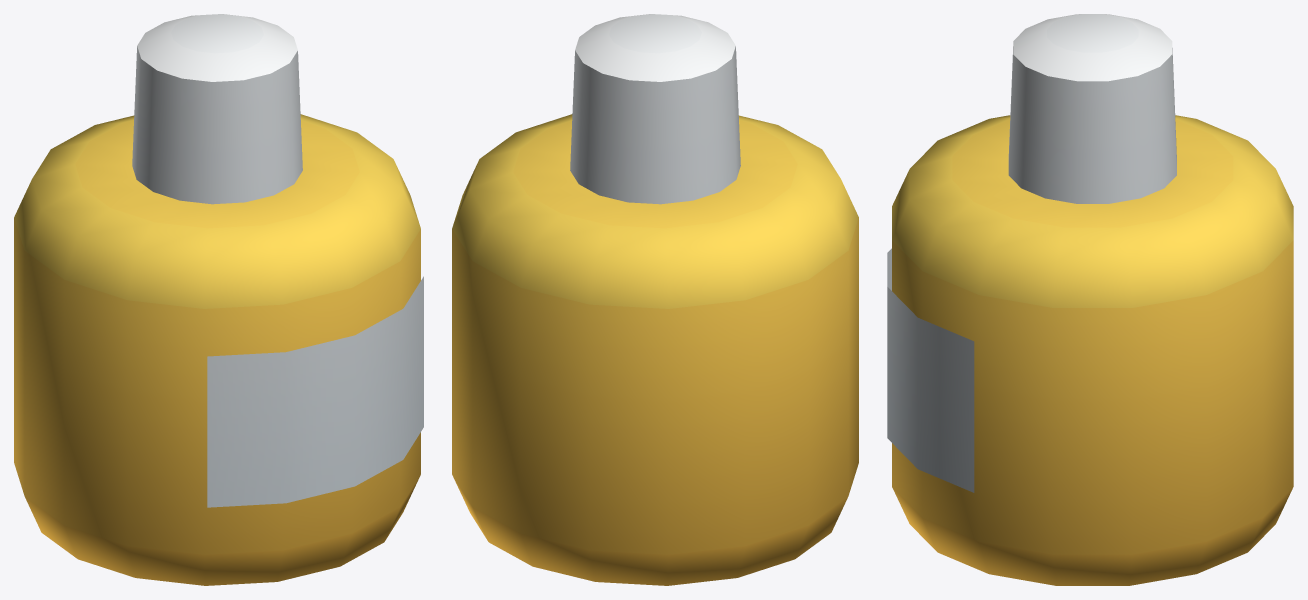
The model's file is container_bathroom_B_yellow.fbx.
3 renders of one model, left to right at view 1: azimuth 30°, elevation 25°; view 2: azimuth 150°, elevation 25°; view 3: azimuth 270°, elevation 25°, orthographic.
Visible parts, largest first — view 1: container_bathroom_B_yellow; view 2: container_bathroom_B_yellow; view 3: container_bathroom_B_yellow.
Boxes of the visible parts, x1=… form: container_bathroom_B_yellow: x1=14, y1=14, x2=423, y2=585; container_bathroom_B_yellow: x1=452, y1=14, x2=858, y2=585; container_bathroom_B_yellow: x1=887, y1=14, x2=1293, y2=585.
Bounding box in the file's own units: 0.312 × 0.422 × 0.3162.
